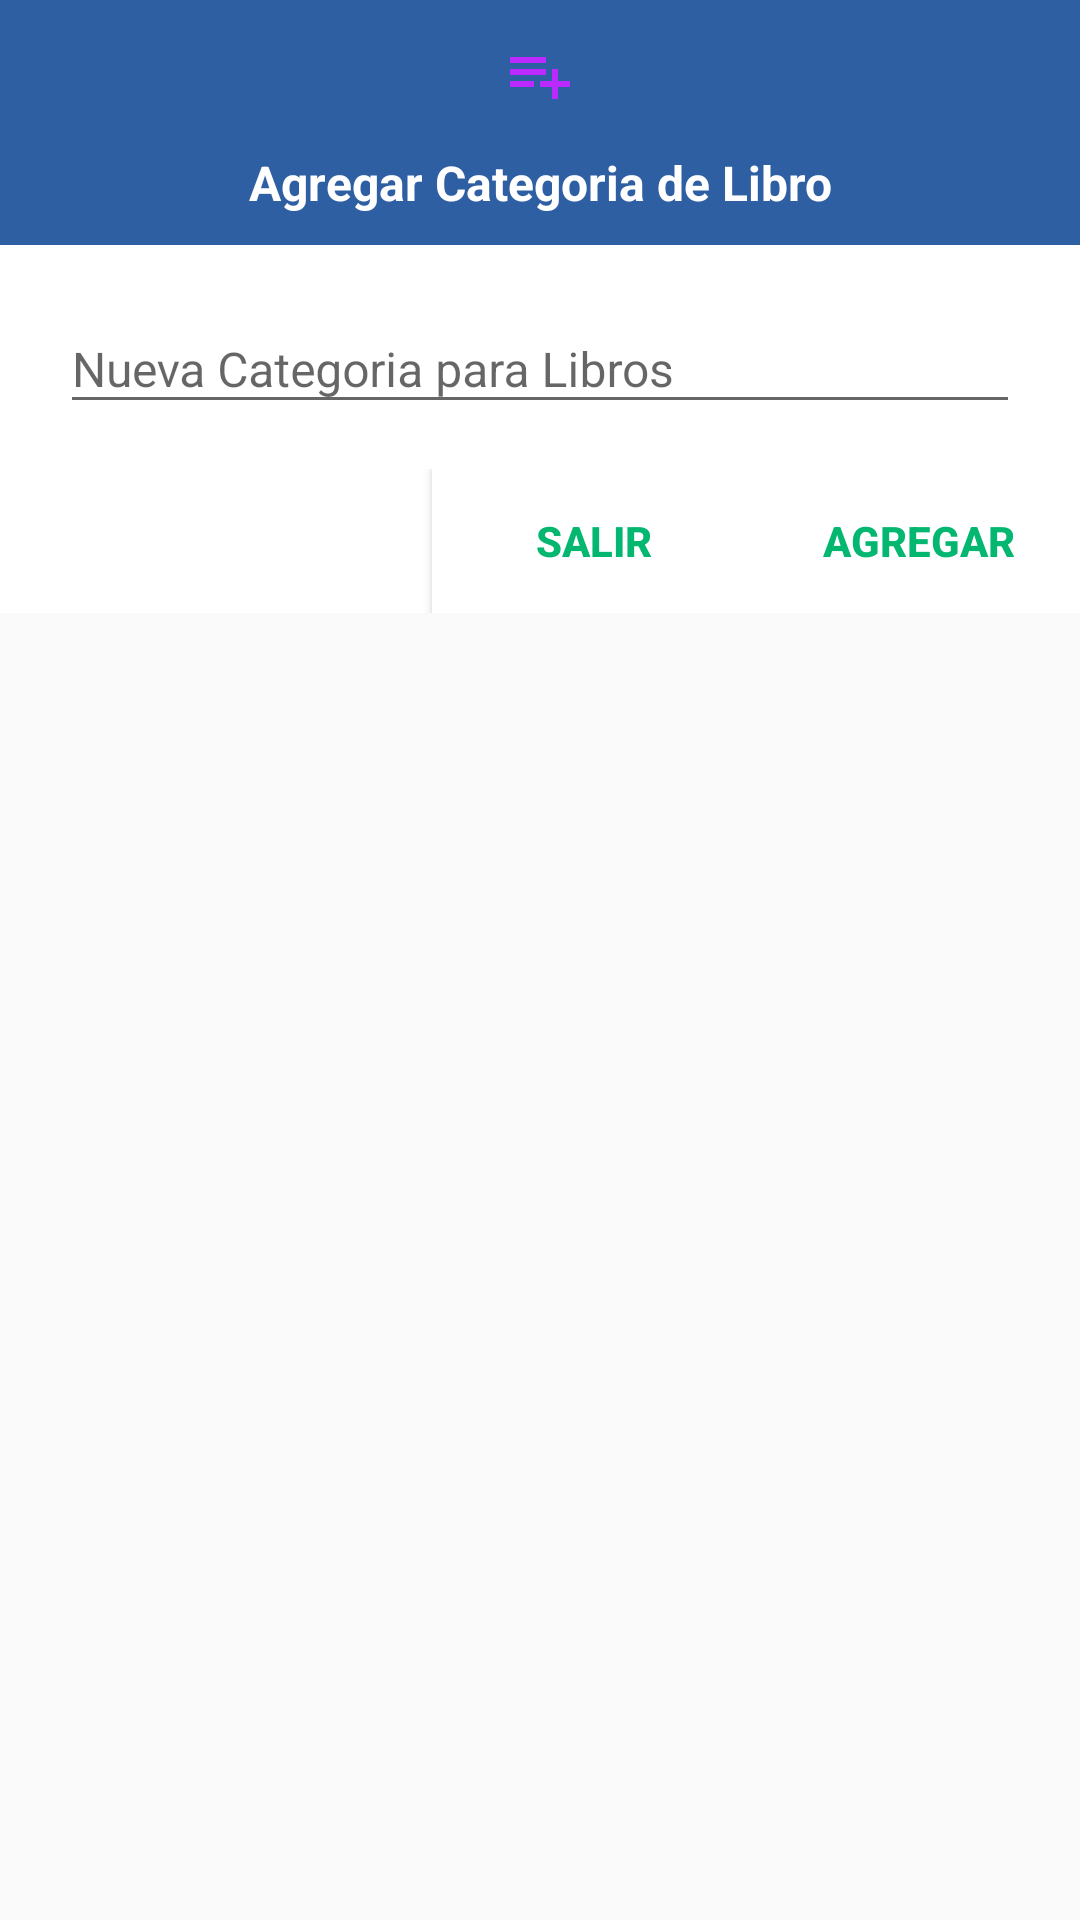

Screen size 1080*1920. Icon name, then its center in pixels as (x=x, y=y):
listcat: (x=540, y=78)
